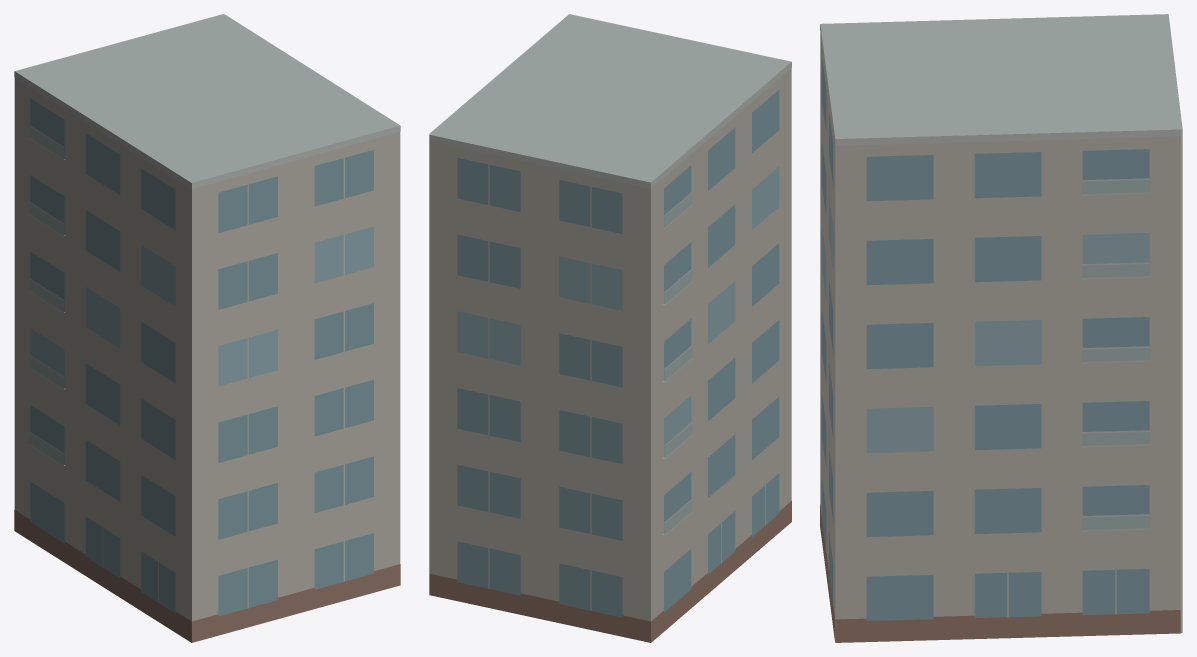
Rendered from survey-upis-32965515.glb.
3 views of the same model, side by side, from view 1: azimuth 30°, elevation 25°; view 2: azimuth 150°, elevation 25°; view 3: azimuth 270°, elevation 25° (orthographic). The views are drawn at different scales.
Visible parts, largest first — view 1: survey-upis-32965515.tmp; view 2: survey-upis-32965515.tmp; view 3: survey-upis-32965515.tmp.
Part boxes in pixels (x1,y1,x2,y2): survey-upis-32965515.tmp: [14, 14, 400, 642]; survey-upis-32965515.tmp: [429, 14, 791, 642]; survey-upis-32965515.tmp: [820, 14, 1182, 642].
Size of the model in its own units: 9.67 by 18.15 by 11.84.
